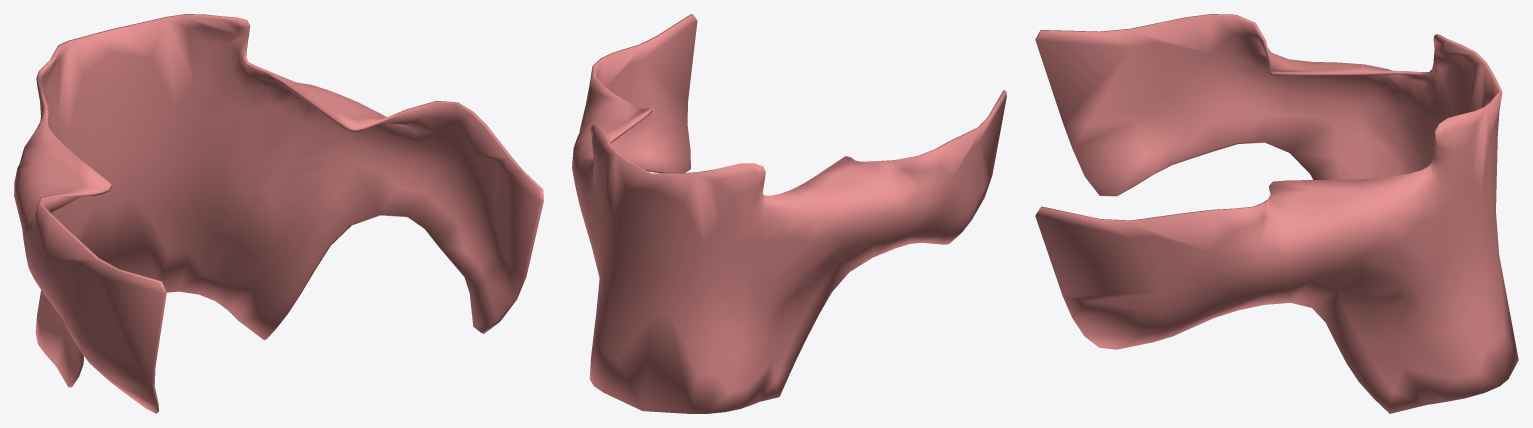
The model's file is visceras-oropharynx.glb.
The picture shows the model from 3 angles, left to right: view 1: azimuth 30°, elevation 25°; view 2: azimuth 150°, elevation 25°; view 3: azimuth 270°, elevation 25°; orthographic projection. The views are drawn at different scales.
Parts seen in each view (by area): view 1: Oropharynx; view 2: Oropharynx; view 3: Oropharynx.
Boxes of the visible parts, bbox=[...] form: Oropharynx: bbox=[14, 14, 543, 413]; Oropharynx: bbox=[572, 14, 1006, 413]; Oropharynx: bbox=[1035, 14, 1518, 413].
Size of the model in its own units: 0.0656 by 0.0442 by 0.0669.
